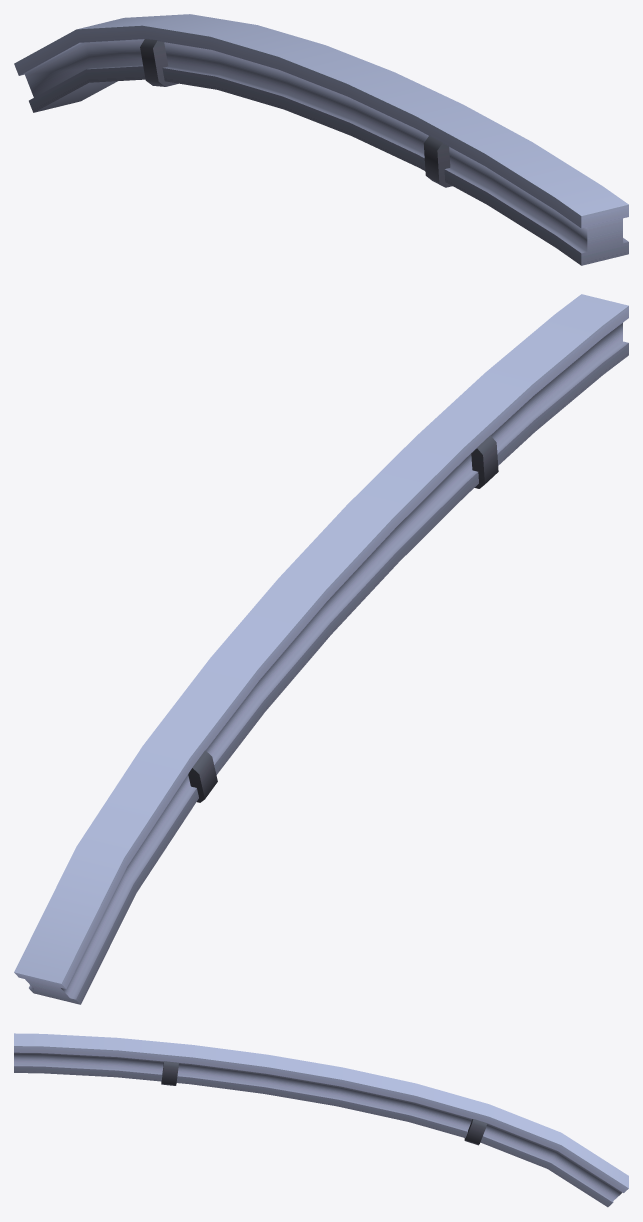
The model's file is coaster-monorail-straight-hill-end.glb.
The picture shows the model from 3 angles, top to bottom: view 1: azimuth 30°, elevation 25°; view 2: azimuth 150°, elevation 25°; view 3: azimuth 270°, elevation 25°; orthographic projection. The views are drawn at different scales.
Parts seen in each view (by area): view 1: coaster-monorail-straight-hill-end; view 2: coaster-monorail-straight-hill-end; view 3: coaster-monorail-straight-hill-end.
Part boxes in pixels (bbox=[...]): coaster-monorail-straight-hill-end: bbox=[14, 14, 628, 265]; coaster-monorail-straight-hill-end: bbox=[14, 294, 628, 1004]; coaster-monorail-straight-hill-end: bbox=[14, 1033, 628, 1207].
Bounding box in the file's own units: 0.2497 × 1.2 × 4.14.
1 material, 1 textured.
